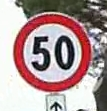limite 50: (12, 10, 91, 93)
